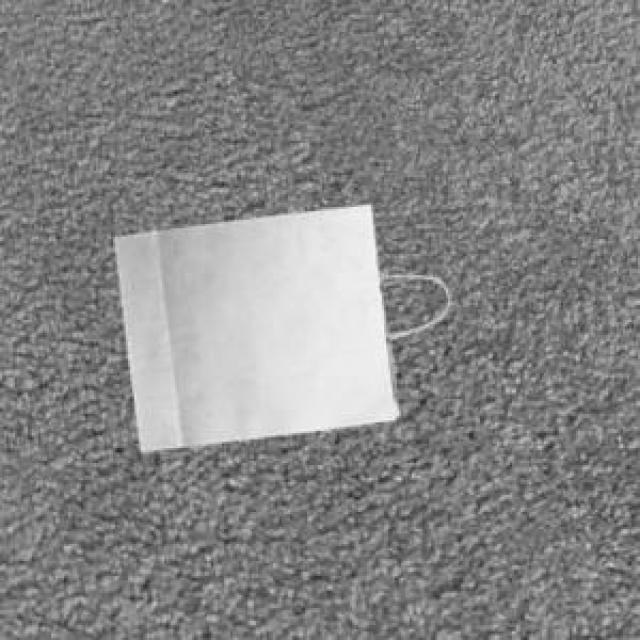paper: (111, 201, 403, 448)
